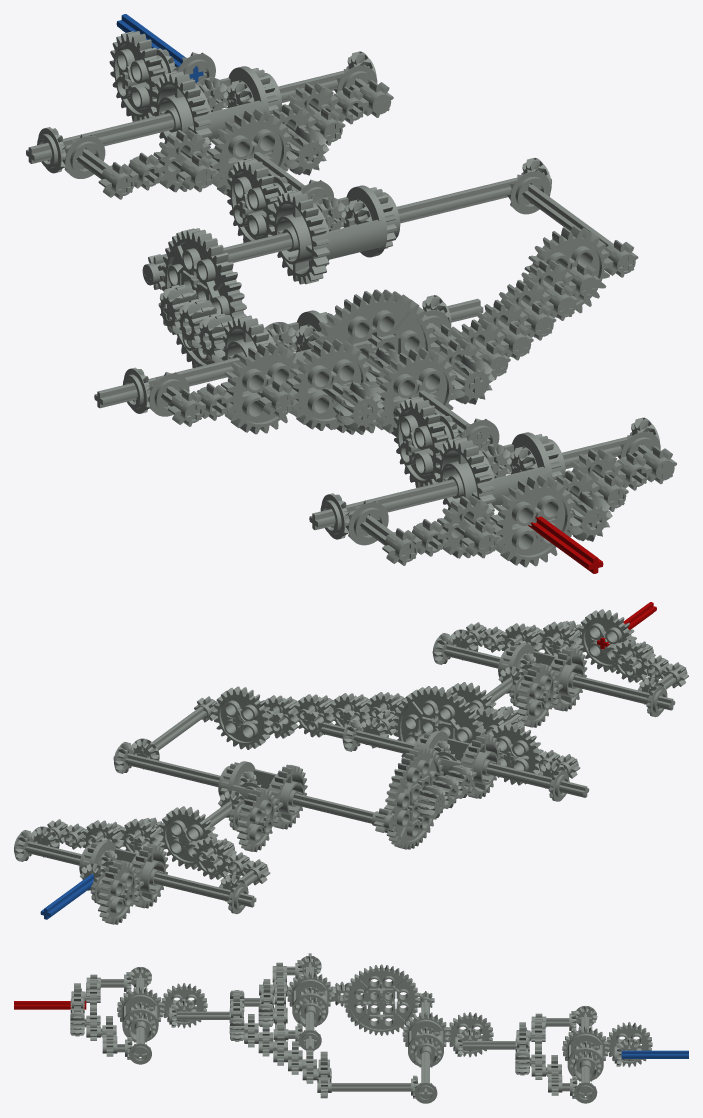
File: VirtualMachine1.dae
3 views of the same model, one above another, from view 1: azimuth 30°, elevation 25°; view 2: azimuth 150°, elevation 25°; view 3: azimuth 270°, elevation 25° (orthographic). The views are drawn at different scales.
Bounding box in the file's own units: 452 × 935 × 105.
